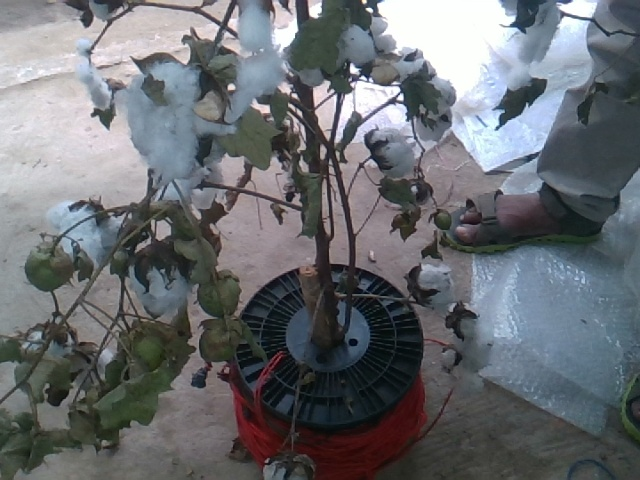cotton: (128, 67, 198, 174), (235, 7, 278, 98), (368, 127, 418, 176), (332, 28, 374, 65)
